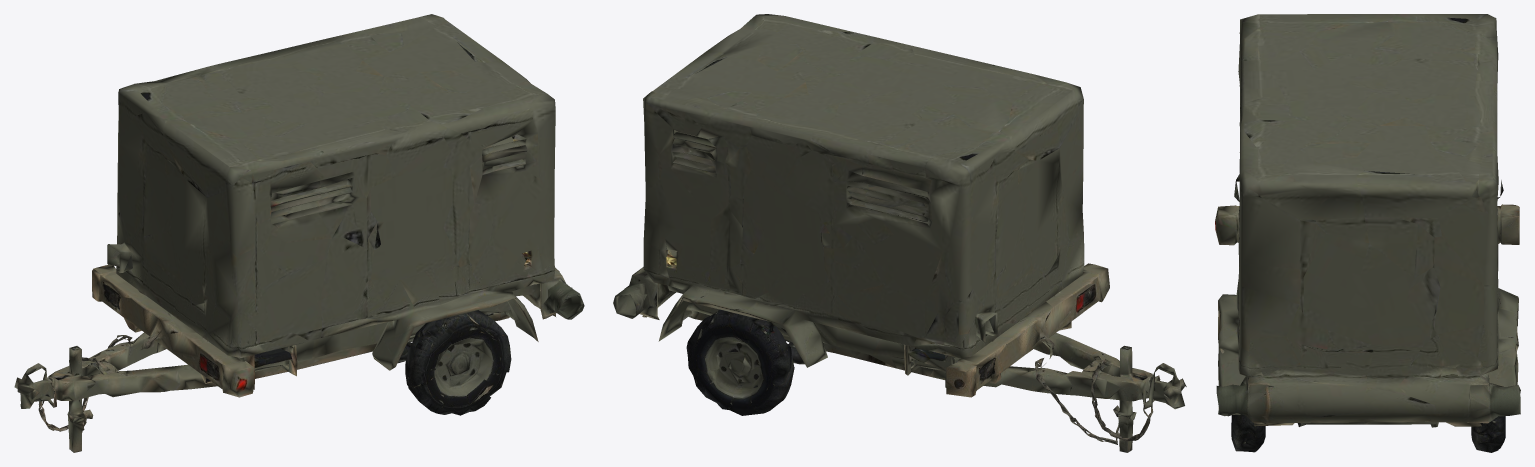
File: jenerator.glb
3 renders of one model, left to right at view 1: azimuth 30°, elevation 25°; view 2: azimuth 150°, elevation 25°; view 3: azimuth 270°, elevation 25°, orthographic. The views are drawn at different scales.
Visible parts, largest first — view 1: kok; view 2: kok; view 3: kok.
Part boxes in pixels (x1,y1,x2,y2): kok: (14, 14, 584, 452); kok: (613, 14, 1186, 452); kok: (1215, 14, 1520, 452).
Size of the model in its own units: 2.5 by 1.42 by 1.24.
Materials: 1 (1 with a texture image).
